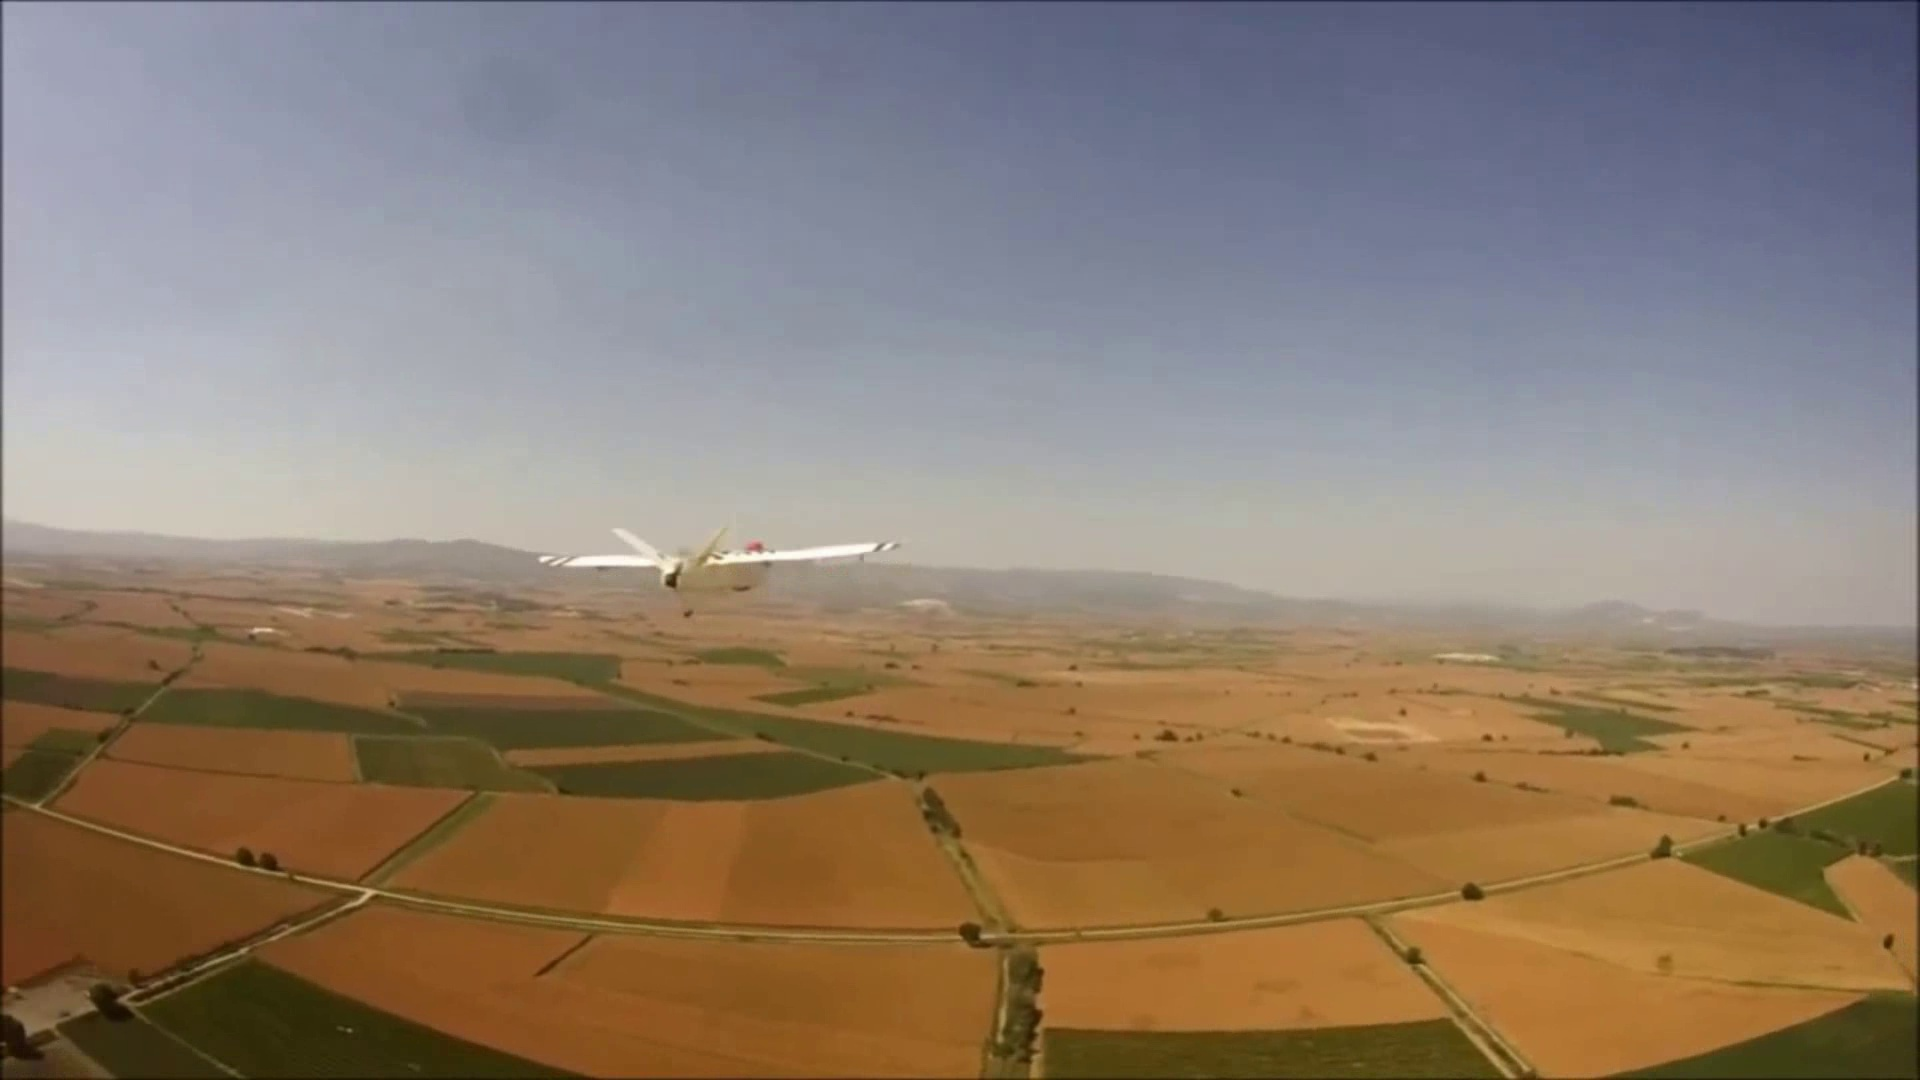airplane: (540, 523, 903, 595)
